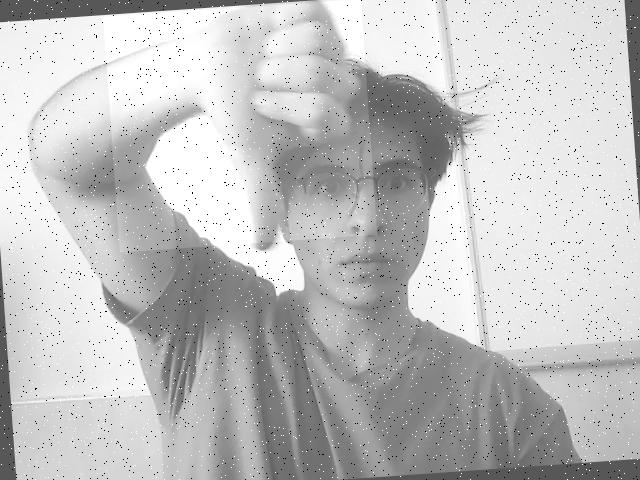bad: (103, 0, 377, 252)
